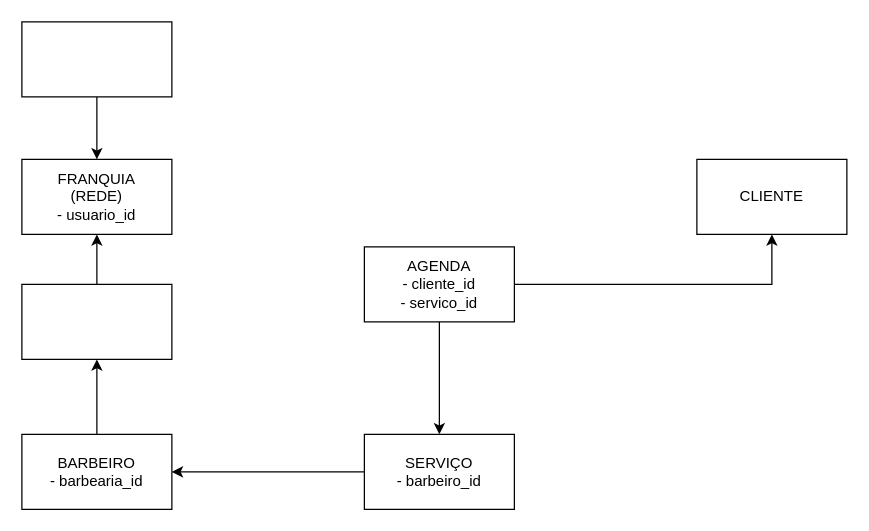
Some shapes in this 869 by 531 pixel diagram are drawn without their labels. Here are the shapes that lost their labels. From the top down, the centre of each, then its label:
pixel 96 59: USUÁRIO
pixel 96 321: BARBEARIA (LOJA) - franquia_id
